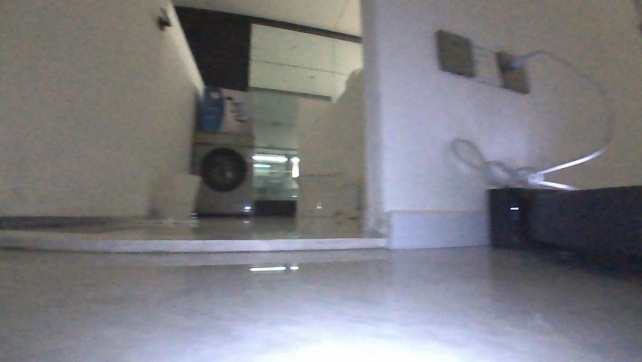toilet: (290, 169, 360, 225)
trash_can: (153, 167, 205, 229)
washing_machine: (186, 125, 253, 219)
wire: (445, 46, 619, 191)
